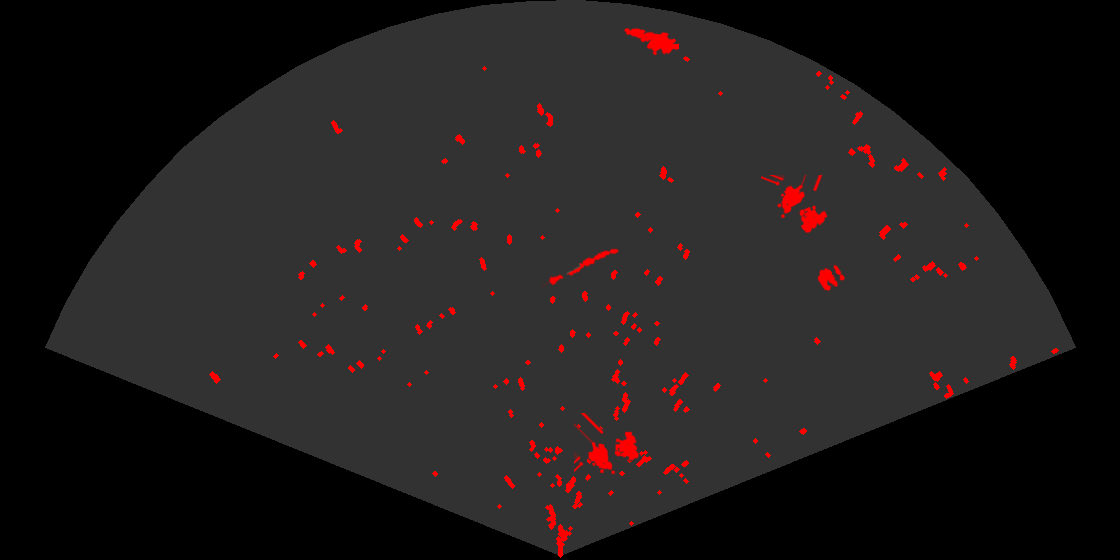ball: (816, 263, 846, 293)
cage: (574, 413, 641, 476), (761, 175, 829, 235)
chain: (541, 247, 620, 289)
frogman: (623, 27, 679, 57)
